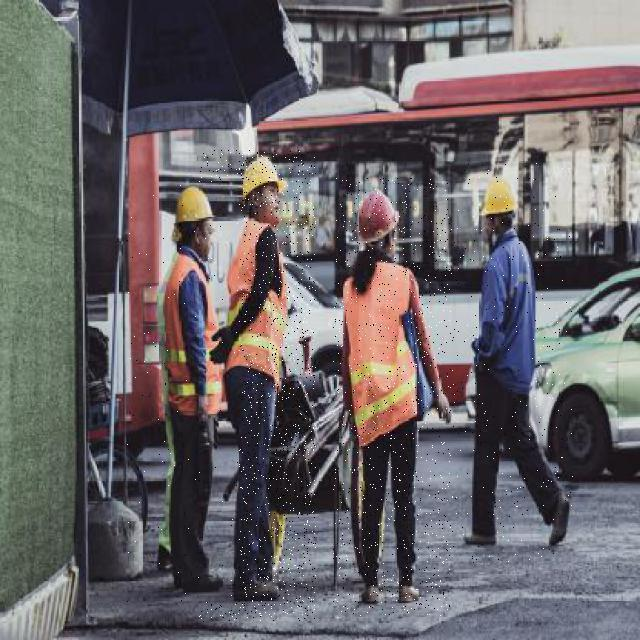helmet: (356, 190, 400, 245), (243, 157, 287, 200), (480, 178, 518, 217), (174, 187, 213, 224)
safety_vest: (342, 263, 419, 448), (154, 252, 223, 415), (224, 219, 287, 394)
